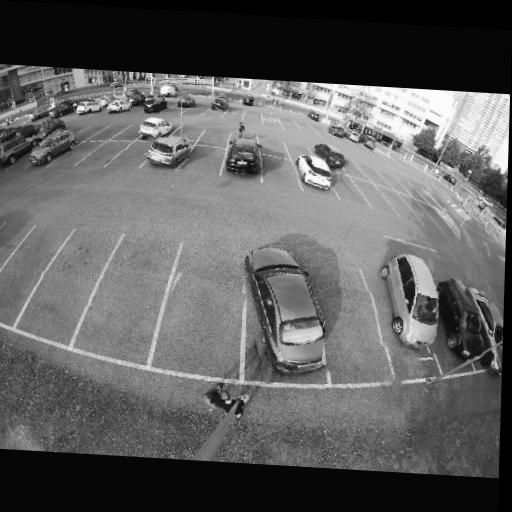busy: (240, 236, 338, 385), (372, 247, 451, 354), (437, 280, 498, 363), (142, 131, 191, 172), (222, 133, 263, 179), (291, 153, 336, 193), (31, 127, 75, 166), (139, 114, 172, 142), (315, 143, 347, 169), (32, 118, 62, 139), (77, 100, 103, 117), (144, 96, 167, 115), (17, 121, 41, 139), (49, 102, 73, 118), (108, 98, 131, 114), (209, 94, 227, 112), (177, 93, 196, 109), (359, 135, 376, 151), (327, 123, 345, 138), (343, 129, 360, 143), (162, 85, 179, 99), (308, 109, 323, 123), (129, 97, 143, 109), (244, 94, 257, 106), (101, 94, 116, 104)
free: (160, 275, 244, 358), (323, 286, 379, 371), (95, 275, 157, 331), (41, 265, 91, 314), (4, 252, 39, 287), (192, 153, 219, 172), (265, 162, 289, 183), (124, 146, 145, 162), (364, 190, 384, 205), (203, 131, 223, 145), (342, 160, 359, 176), (97, 145, 116, 159), (390, 198, 407, 213), (335, 180, 353, 194), (261, 139, 280, 152), (203, 108, 223, 120), (289, 144, 308, 156), (72, 145, 89, 158), (413, 209, 428, 223), (180, 125, 197, 137), (246, 113, 260, 123), (227, 109, 241, 119), (434, 219, 445, 231), (283, 120, 296, 130), (369, 170, 380, 181), (388, 178, 399, 189), (264, 117, 277, 126), (101, 129, 115, 137), (125, 129, 137, 137), (304, 128, 316, 136), (191, 107, 204, 113), (167, 104, 178, 111)
